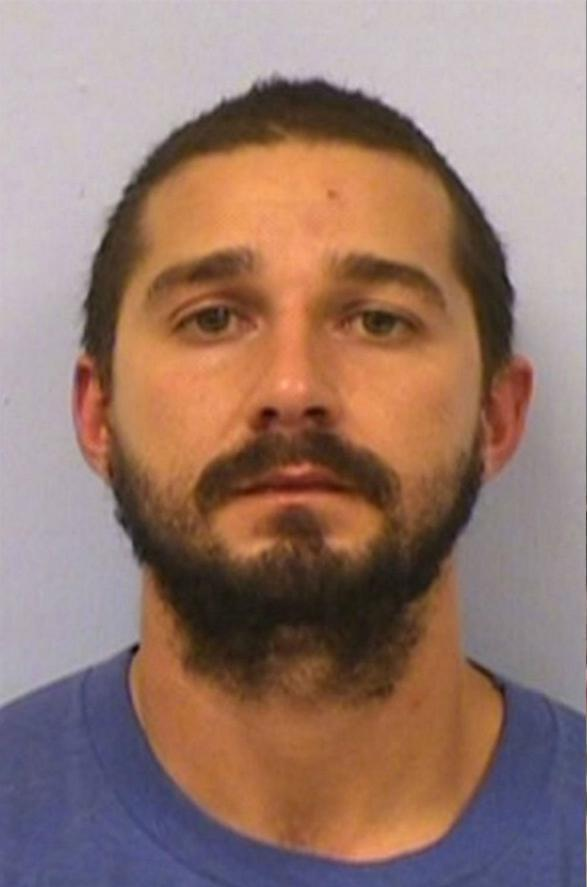Drunk: (135, 160, 480, 597)
